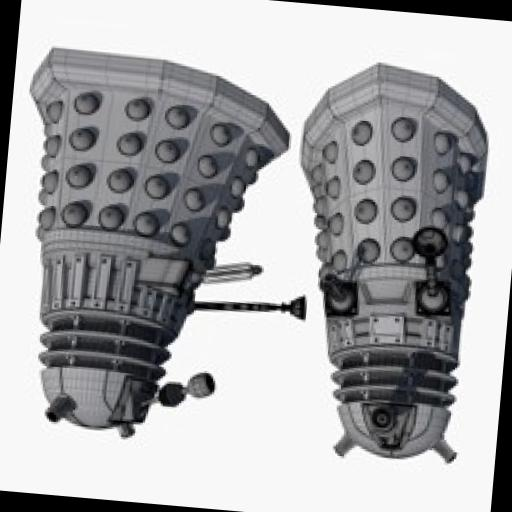dalek: (0, 42, 330, 457), (272, 56, 498, 470)
